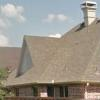Chimney: (75, 2, 99, 30)
